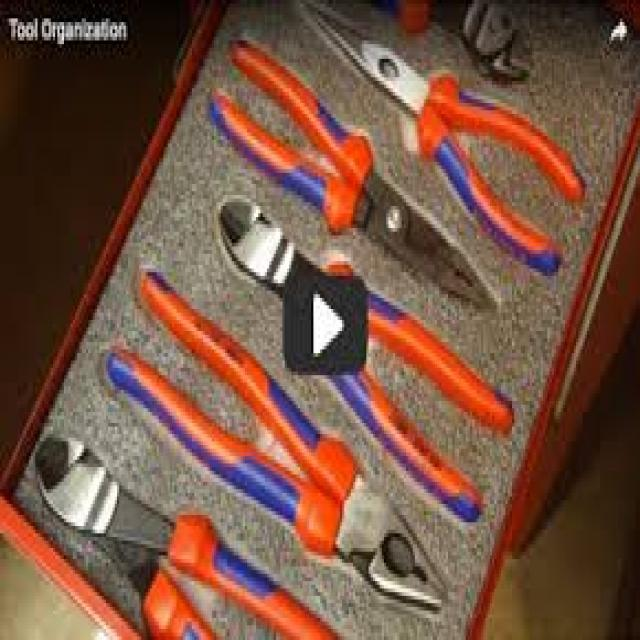pliers: (102, 270, 444, 604), (212, 29, 500, 312), (312, 8, 582, 268), (229, 208, 494, 470), (34, 434, 290, 640)
